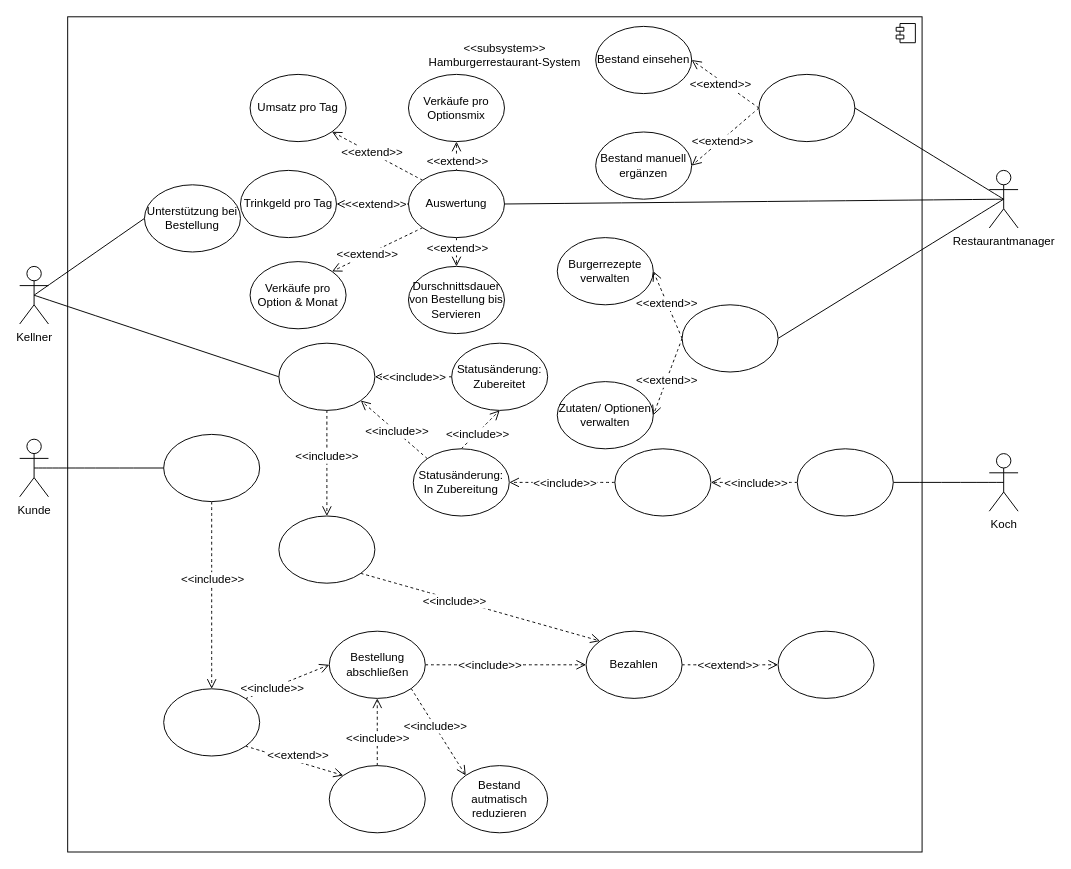
Image size: 1071x869. Some labels were removed from this diagram. The centre of each missing label's shape, as x and y in pixels:
"Administration" goes at point 729,338.
"Beilagen & Getränk wählen" goes at point 376,799.
"Bestellung aufgeben" goes at point 211,467.
"Bestellung empfangen" goes at point 844,482.
"Burger individuell zusammenstellen" goes at point 211,722.
"Lagerverwaltung" goes at point 806,107.
"Serviert das Essen" goes at point 326,376.
"Statusänderung: empfangen" goes at point 662,482.
"Statusänderung: serviert" goes at point 326,549.
"Trinkgeld geben" goes at point 825,664.
